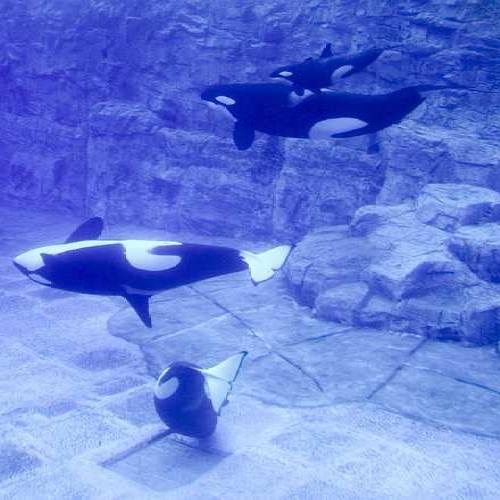killer_whale-endangered: (18, 220, 295, 303), (186, 77, 465, 153), (142, 336, 254, 446), (270, 29, 396, 99)
